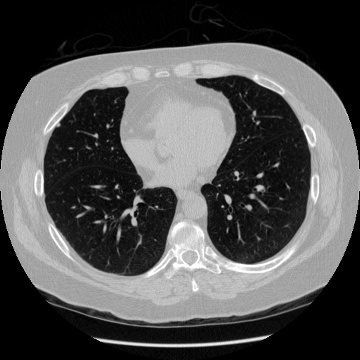PN: (56, 123, 60, 127)
